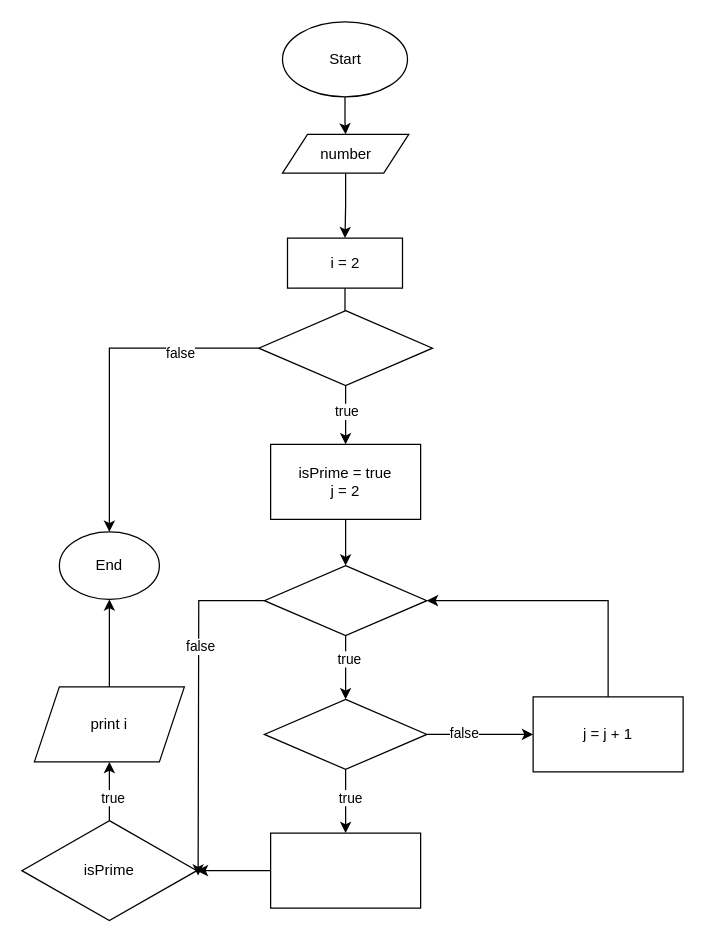
The diagram is 705 pixels wide and 943 high, and some of its shapes have lost their labels. The centre of each missing label's shape, as x and y in pixels:
i % j === 0: (x=345, y=733)
i <= number: (x=345, y=347)
isPrime = false break: (x=345, y=870)
j <= Math.sqrt(i): (x=345, y=600)
